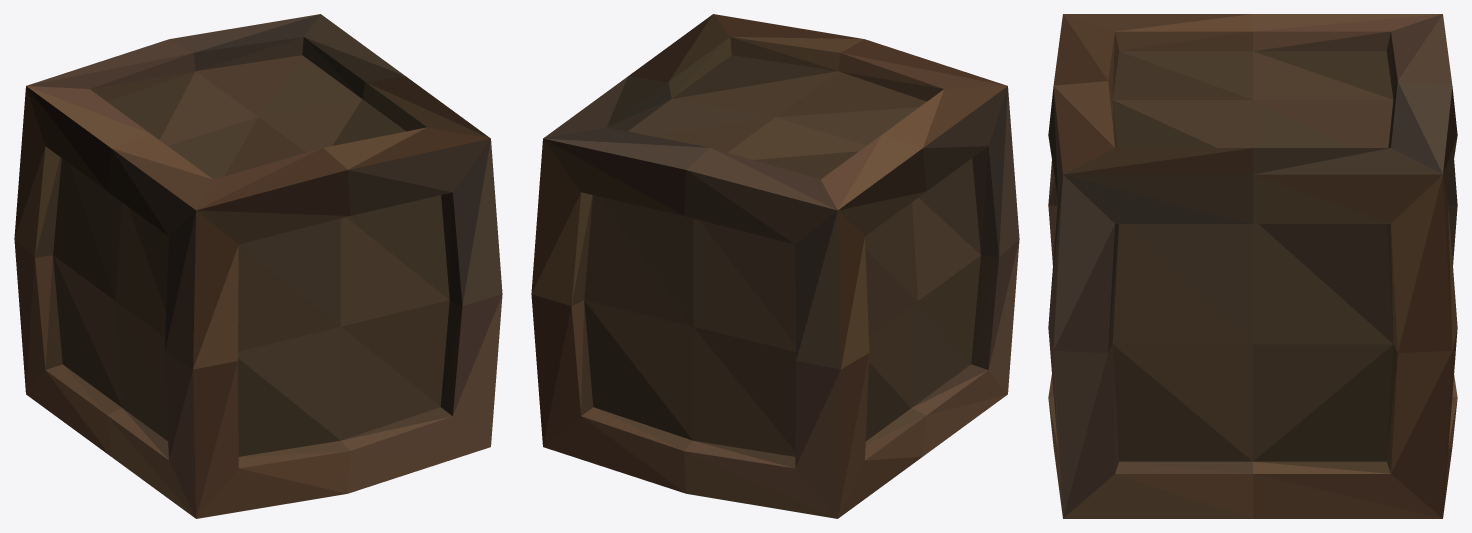
Rendered from prop_container_crate_1.fbx.
3 renders of one model, left to right at view 1: azimuth 30°, elevation 25°; view 2: azimuth 150°, elevation 25°; view 3: azimuth 270°, elevation 25°, orthographic. The views are drawn at different scales.
Visible parts, largest first — view 1: prop_container_crate_1; view 2: prop_container_crate_1; view 3: prop_container_crate_1.
Boxes of the visible parts, x1,y1,x2,y2 form: prop_container_crate_1: (14, 14, 502, 518); prop_container_crate_1: (531, 14, 1019, 518); prop_container_crate_1: (1048, 14, 1457, 518).
Bounding box in the file's own units: 1.42 × 1.42 × 1.42.
